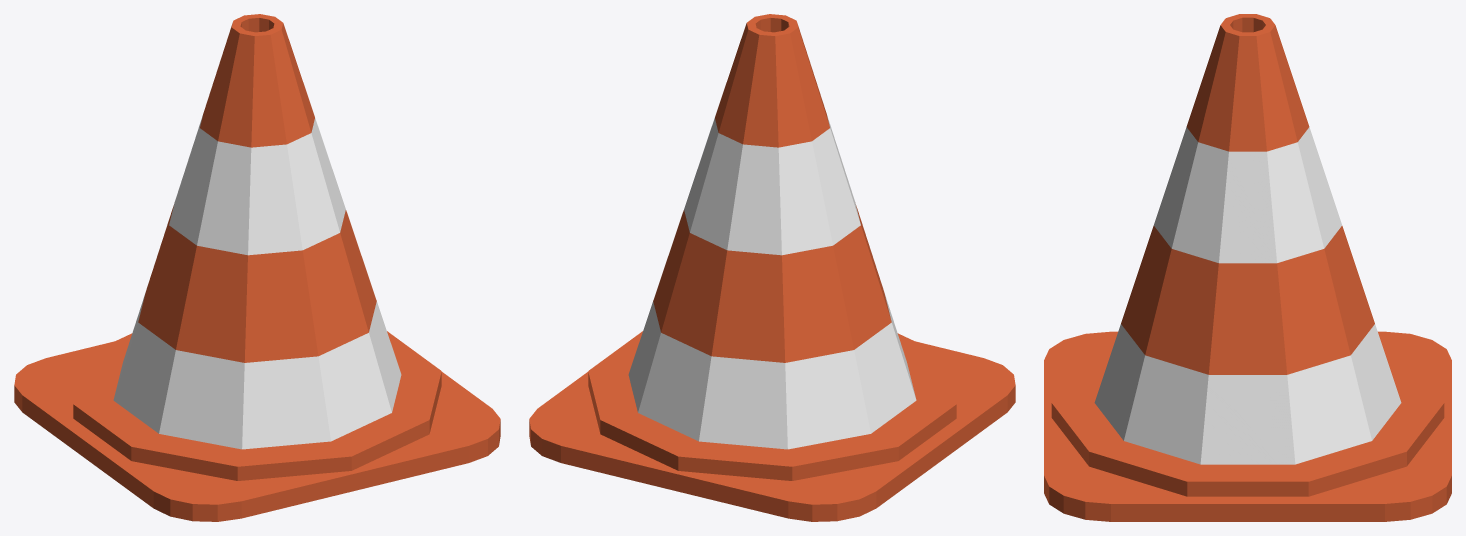
The model's file is traffic_cone.fbx.
3 renders of one model, left to right at view 1: azimuth 30°, elevation 25°; view 2: azimuth 150°, elevation 25°; view 3: azimuth 270°, elevation 25°, orthographic. The views are drawn at different scales.
Visible parts, largest first — view 1: traffic_cone; view 2: traffic_cone; view 3: traffic_cone.
Part boxes in pixels (bbox=[...]): traffic_cone: bbox=[14, 14, 500, 521]; traffic_cone: bbox=[529, 14, 1015, 521]; traffic_cone: bbox=[1044, 14, 1451, 521].
Bounding box in the file's own units: 257 × 285 × 257.
